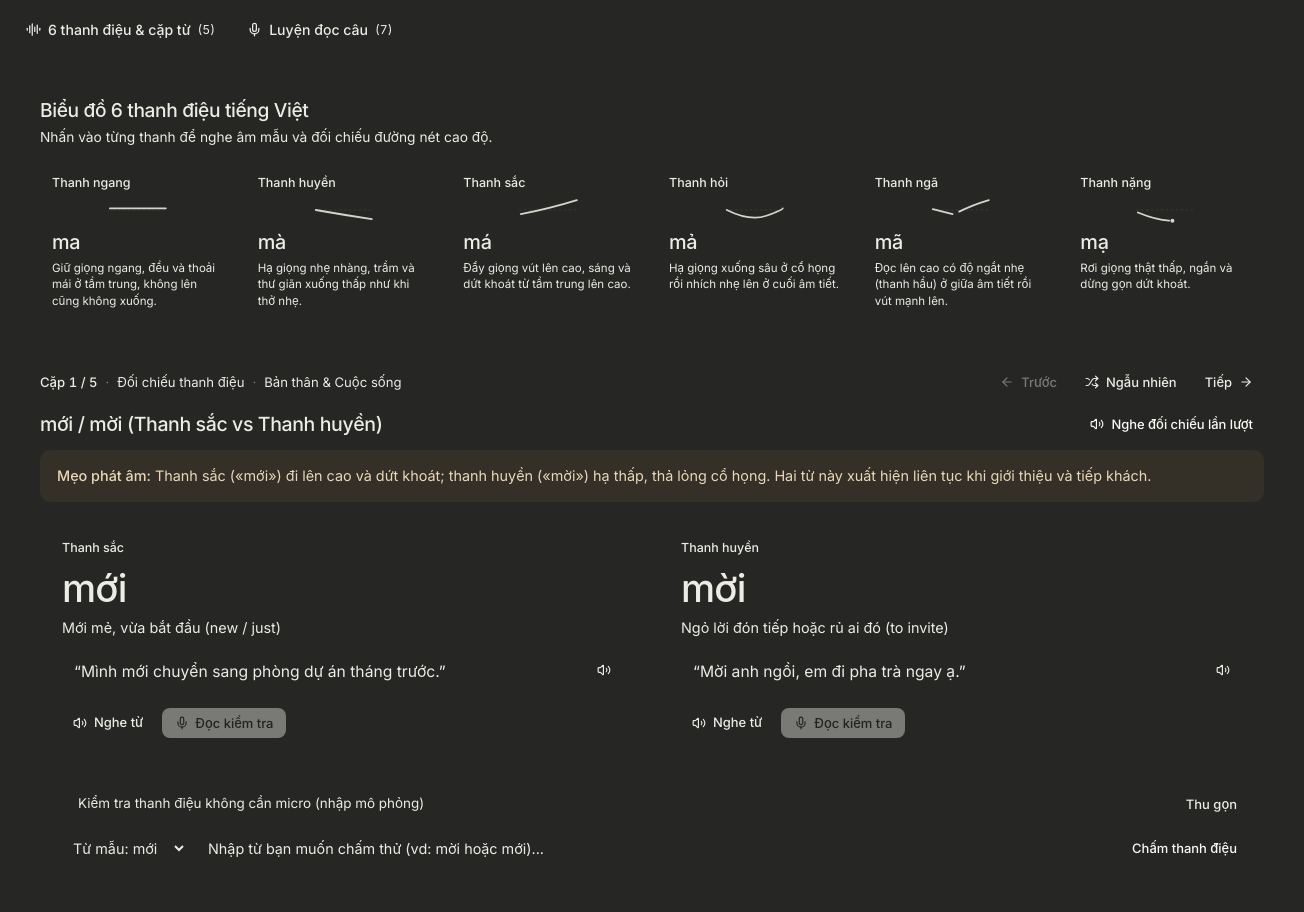
Scenario: PronunciationLab › highlights tone-mismatch with expected vs spoken tone labels in minimal pair fallback
Type "mời" into the field with placeholder "Nhập từ bạn muốn chấm thử (vd: mời hoặc mới)...". click: [654, 848]
box: [195,831,1113,866]
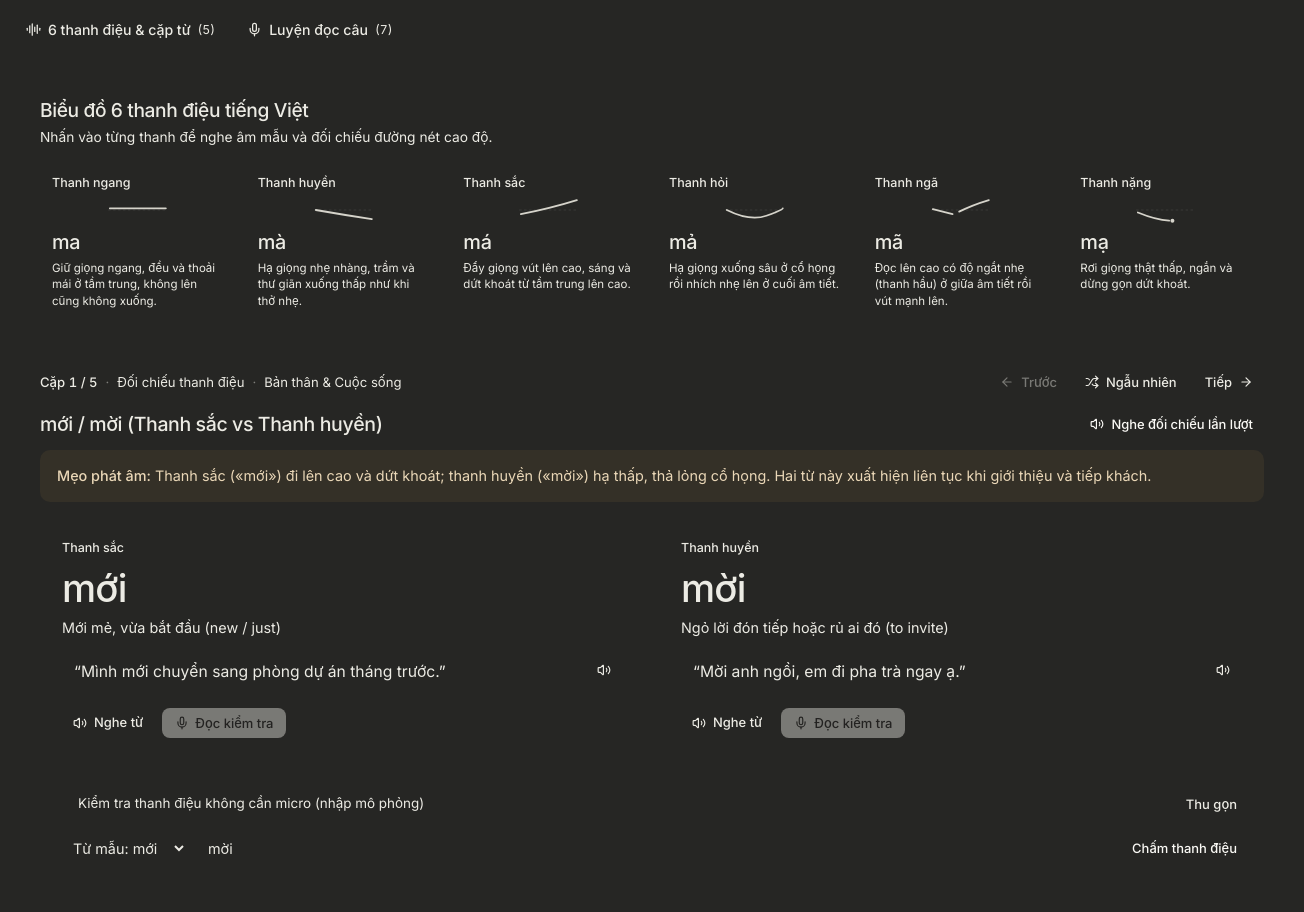
Click the button "Chấm thanh điệu". click: [1185, 848]
box: [1121,834,1248,862]
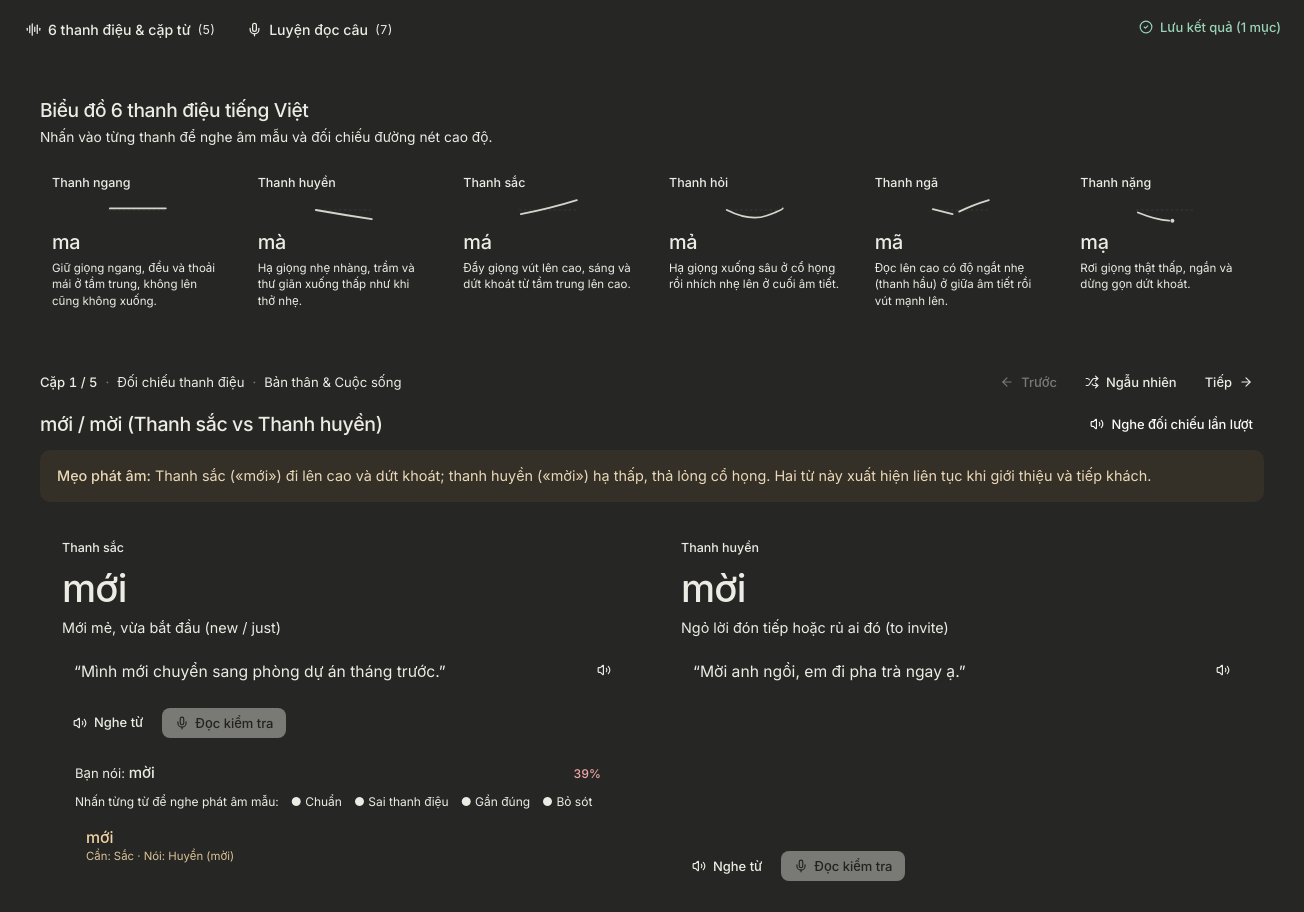
expect the element with test id "pronunciation-word-diffs" shows "Cần: Sắc": met, box [75,821,245,870]
expect the element with test id "pronunciation-word-diffs" shows "Nói: Huyền": met, box [75,821,245,870]
